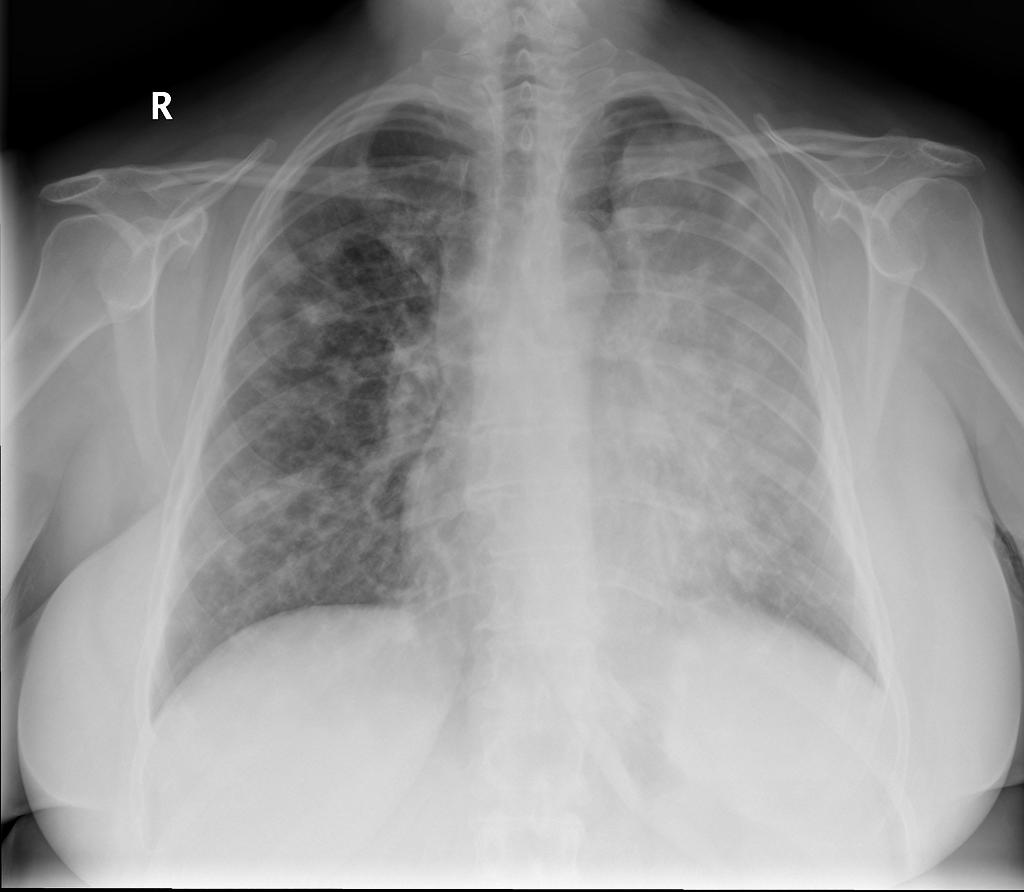cancer: (539, 91, 856, 652), (160, 112, 462, 650)
